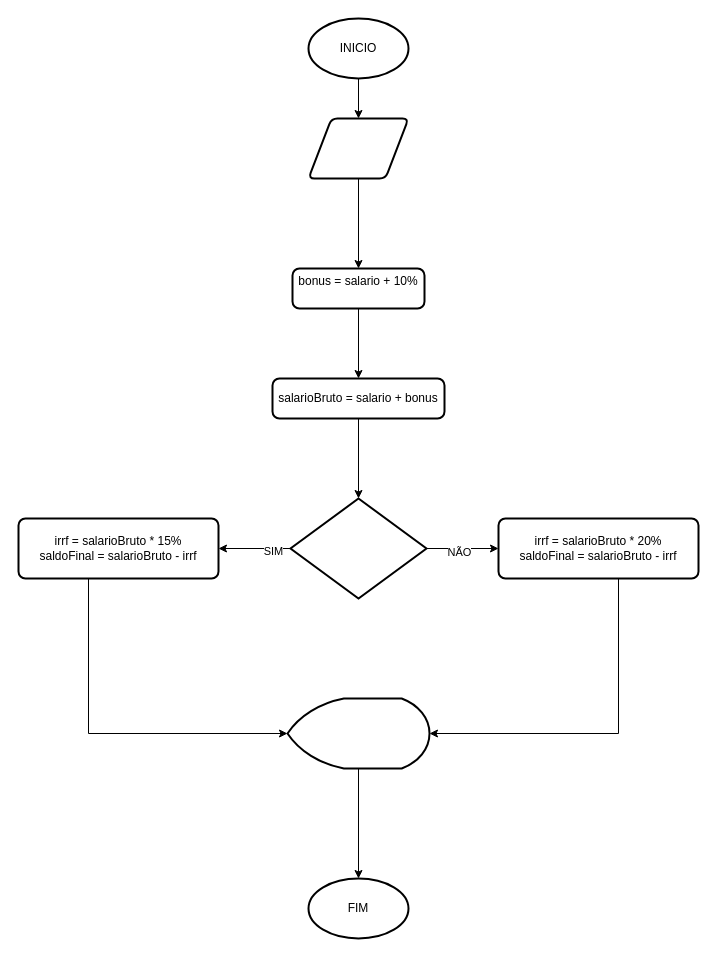
This 716x956 diagram has some shape labels left out. Here are the shapes that lost their labels. From the top down, the centre of each, then its label:
(x=358, y=148): Salario
(x=358, y=548): salarioBruto <= 1200
(x=358, y=733): Salario, Bonus, SalarioBruto, saldoFinal
